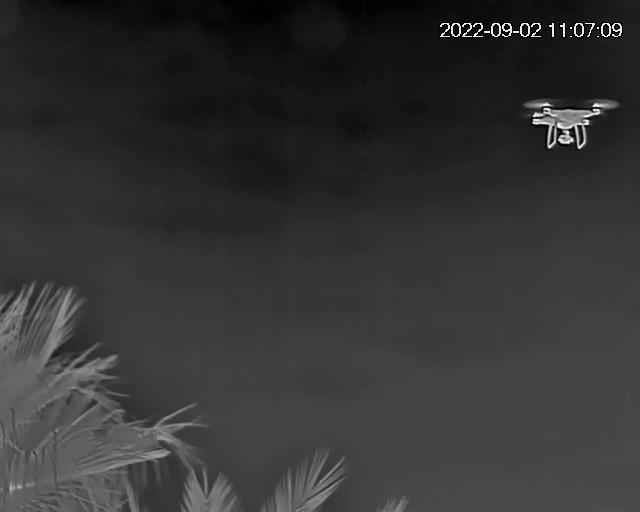DJI-Phantom: (528, 96, 620, 154)
